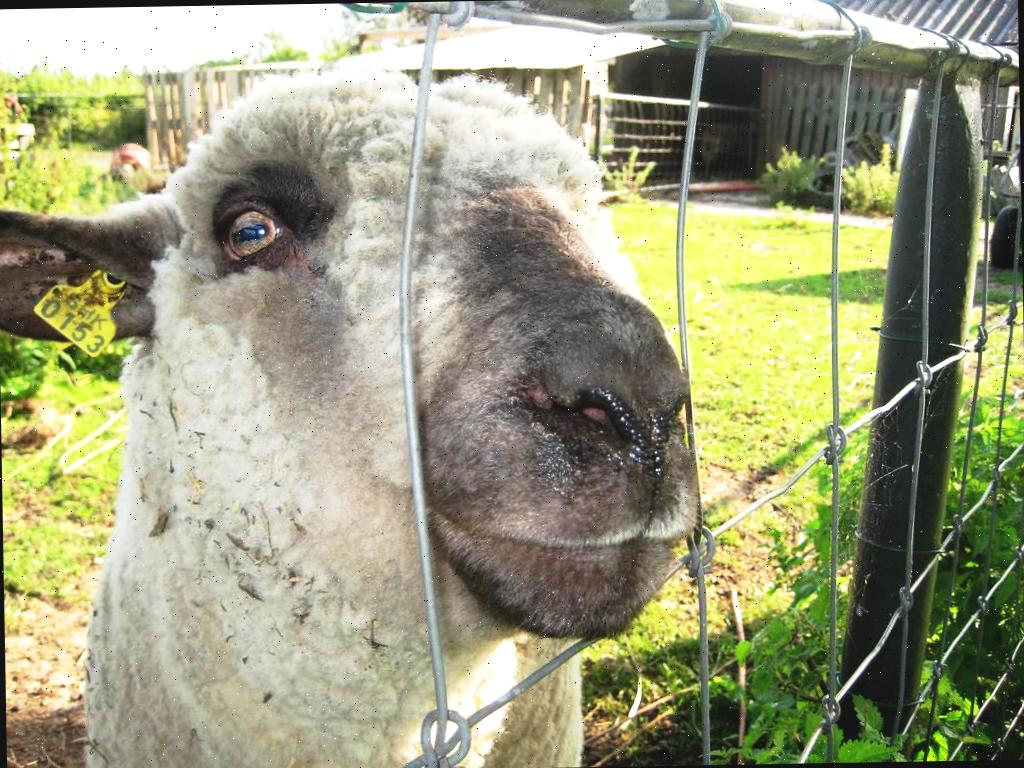Sheep: (0, 36, 736, 768)
